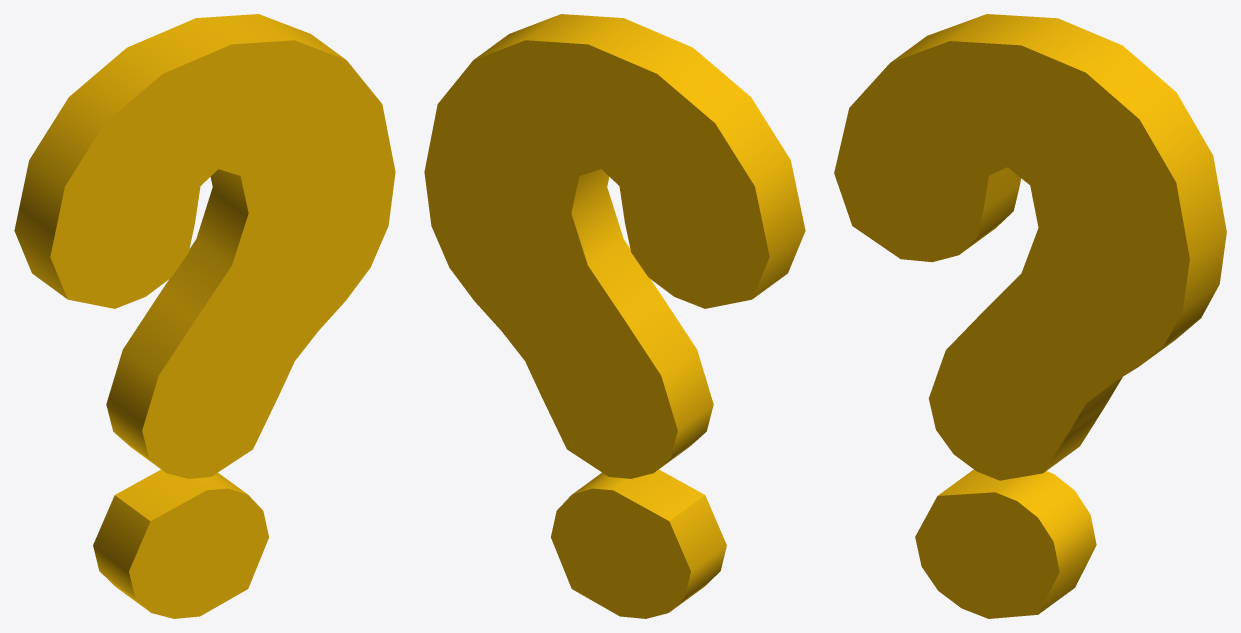
Rendered from Question Mark_1.fbx.
3 views of the same model, side by side, from view 1: azimuth 30°, elevation 25°; view 2: azimuth 150°, elevation 25°; view 3: azimuth 330°, elevation 25° (orthographic). The views are drawn at different scales.
Parts seen in each view (by area): view 1: Question Mark_1; view 2: Question Mark_1; view 3: Question Mark_1.
Part boxes in pixels (x1,y1,x2,y2): Question Mark_1: (14, 14, 395, 618); Question Mark_1: (424, 14, 805, 618); Question Mark_1: (834, 14, 1226, 618).
Size of the model in its own units: 0.1104 by 0.1723 by 0.0199.
